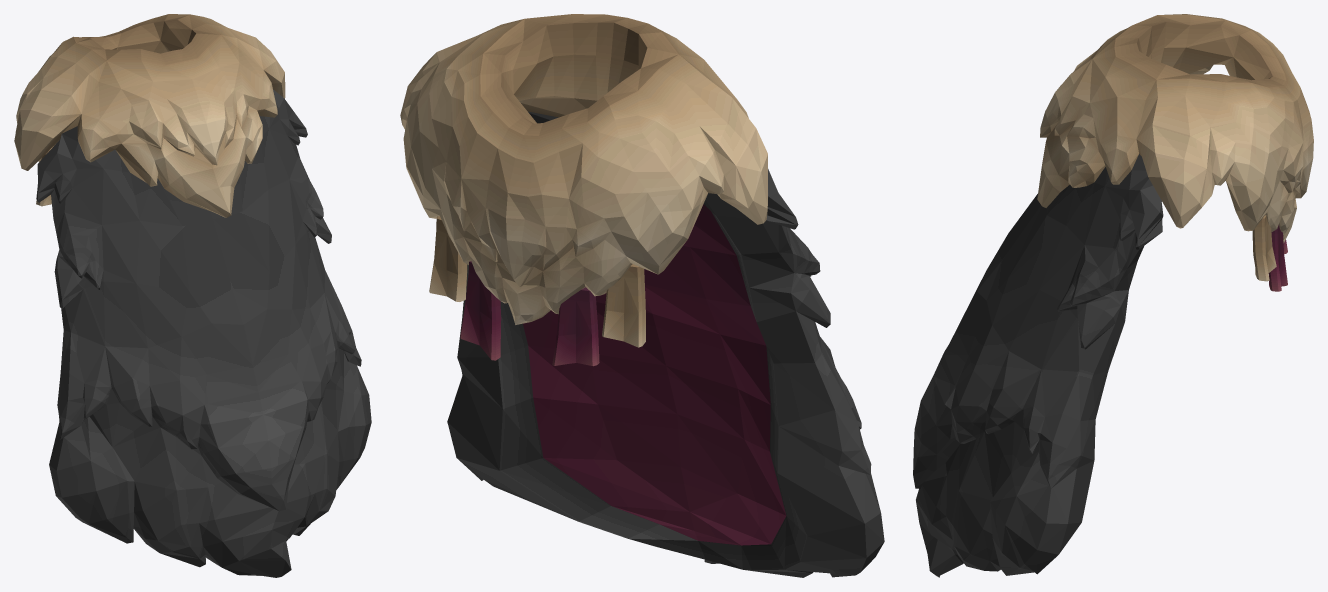
Rendered from CharSkyKid_Wing_AP18FauxPelt.glb.
3 views of the same model, side by side, from view 1: azimuth 30°, elevation 25°; view 2: azimuth 150°, elevation 25°; view 3: azimuth 270°, elevation 25° (orthographic). The views are drawn at different scales.
Visible parts, largest first — view 1: CharSkyKid_Wing_AP18FauxPelt; view 2: CharSkyKid_Wing_AP18FauxPelt; view 3: CharSkyKid_Wing_AP18FauxPelt.
Boxes of the visible parts, x1,y1,x2,y2 form: CharSkyKid_Wing_AP18FauxPelt: [14, 14, 371, 577]; CharSkyKid_Wing_AP18FauxPelt: [400, 14, 884, 577]; CharSkyKid_Wing_AP18FauxPelt: [913, 14, 1313, 577].
Bounding box in the file's own units: 6.01 × 8.63 × 5.96.
1 material, 1 textured.
